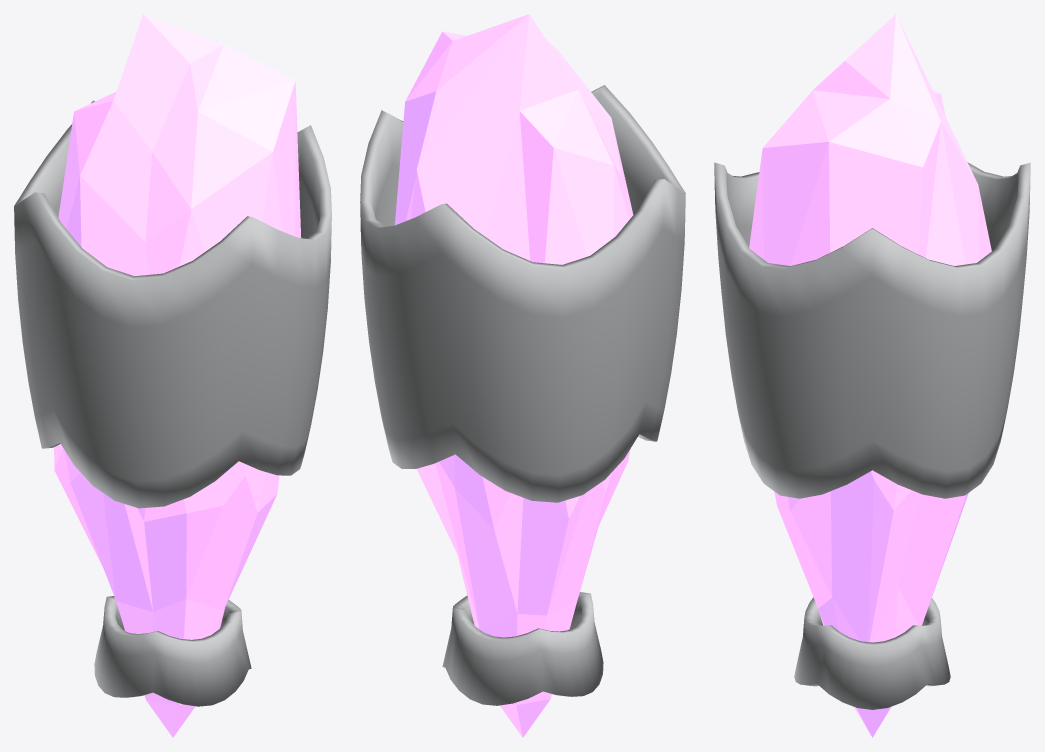
File: lampythingy2.fbx
3 renders of one model, left to right at view 1: azimuth 30°, elevation 25°; view 2: azimuth 150°, elevation 25°; view 3: azimuth 270°, elevation 25°, orthographic. The views are drawn at different scales.
Parts seen in each view (by area): view 1: Cylinder, Icosphere, Cylinder.001; view 2: Cylinder, Icosphere, Cylinder.001; view 3: Cylinder, Icosphere, Cylinder.001.
Part boxes in pixels (left/top/right/bottom): Cylinder: left=14, top=100, right=331, bottom=508; Icosphere: left=54, top=14, right=301, bottom=737; Cylinder.001: left=94, top=596, right=251, bottom=706; Cylinder: left=360, top=85, right=685, bottom=502; Icosphere: left=394, top=14, right=633, bottom=737; Cylinder.001: left=442, top=592, right=603, bottom=705; Cylinder: left=714, top=162, right=1030, bottom=498; Icosphere: left=749, top=14, right=991, bottom=737; Cylinder.001: left=794, top=597, right=950, bottom=709.
Bounding box in the file's own units: 29.73 × 74.1 × 29.73.
